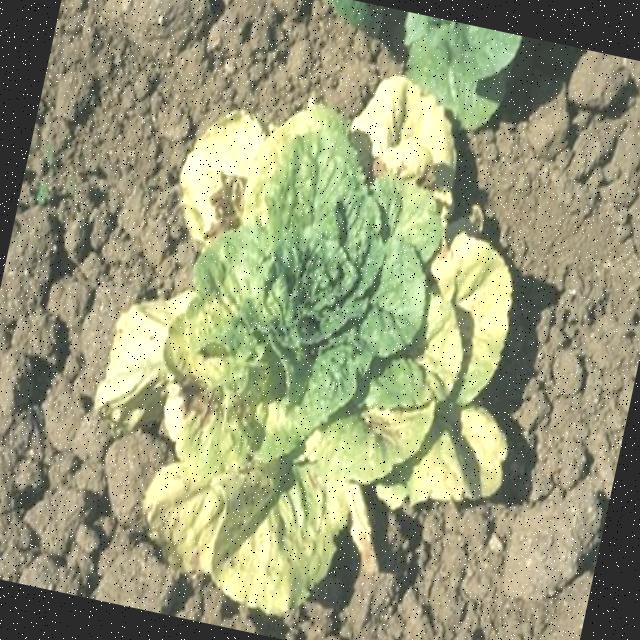Viral: (61, 29, 575, 640)
